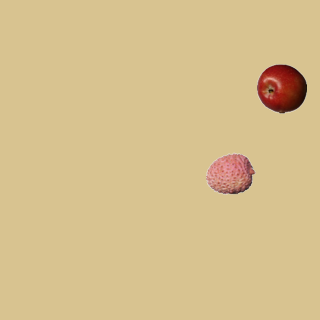Apple Braeburn: (256, 63, 306, 113)
Lychee: (205, 148, 255, 198)
